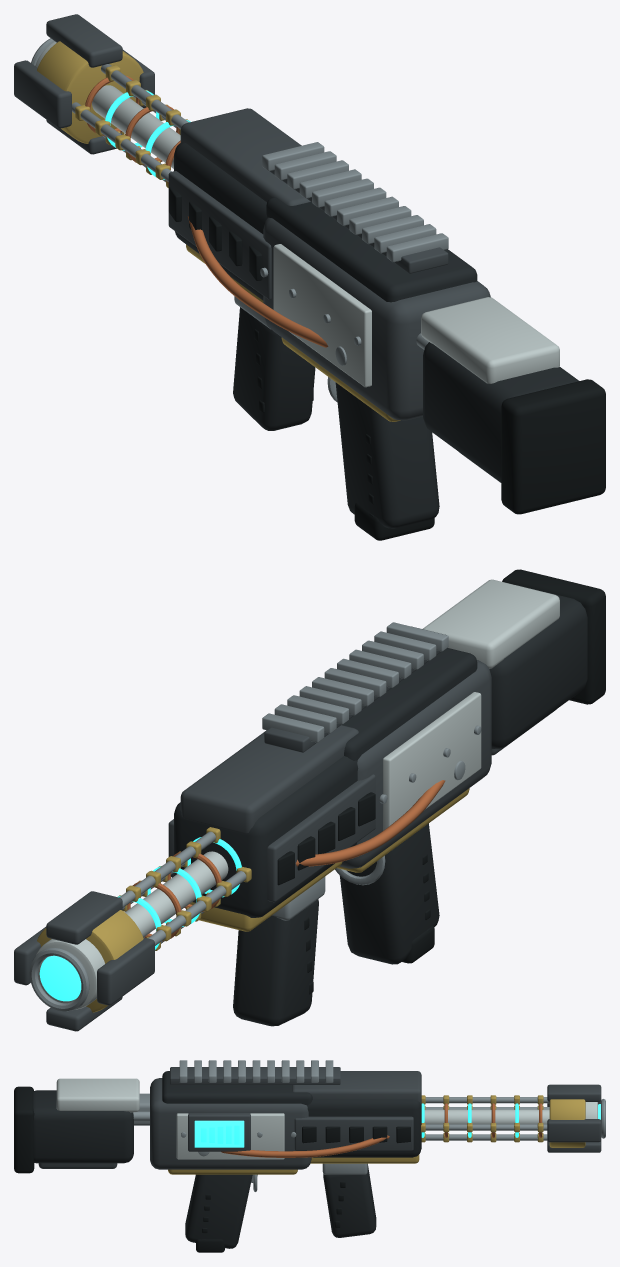
Rendered from hlx-3-prospector.glb.
3 views of the same model, one above another, from view 1: azimuth 30°, elevation 25°; view 2: azimuth 150°, elevation 25°; view 3: azimuth 270°, elevation 25° (orthographic). The views are drawn at different scales.
Visible parts, largest first — view 1: HLX3_Model; view 2: HLX3_Model; view 3: HLX3_Model.
Part boxes in pixels (x1,y1,x2,y2): HLX3_Model: (14, 14, 605, 540); HLX3_Model: (14, 569, 605, 1031); HLX3_Model: (14, 1060, 605, 1252).
Size of the model in its own units: 0.4604 by 0.872 by 2.64.
